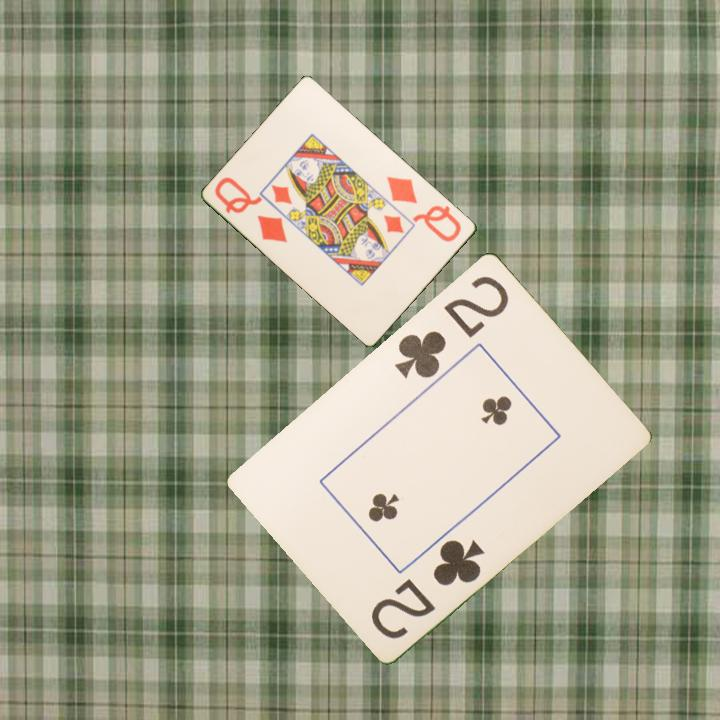2c: (391, 271, 513, 381), (367, 535, 488, 642)
Qd: (383, 173, 465, 245), (211, 173, 291, 246)
